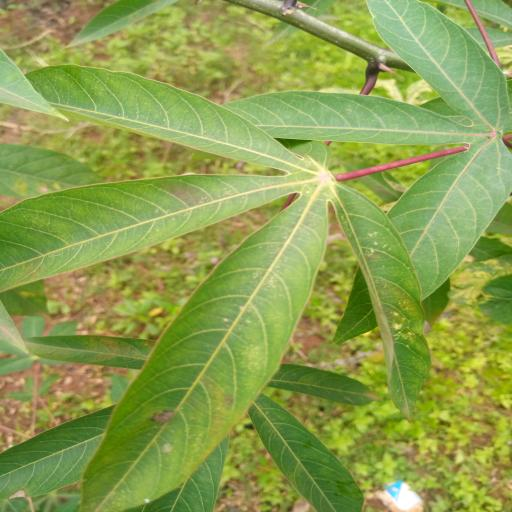Cassava_Brown_Leaf_Spot: (0, 61, 433, 506), (214, 1, 512, 344)
